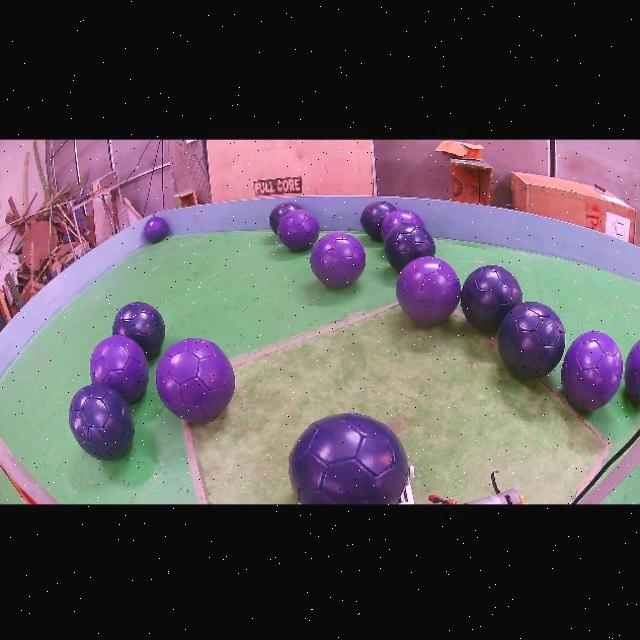B: (288, 413, 410, 504), (498, 302, 565, 378), (69, 384, 135, 461), (460, 265, 522, 332), (112, 302, 165, 360), (384, 223, 435, 271), (360, 201, 396, 240), (269, 202, 302, 235)
P: (156, 338, 235, 422), (562, 331, 622, 411), (396, 256, 460, 325), (89, 335, 149, 403), (311, 232, 365, 287), (278, 209, 320, 251), (381, 209, 426, 240), (625, 340, 640, 404), (144, 217, 168, 242)
